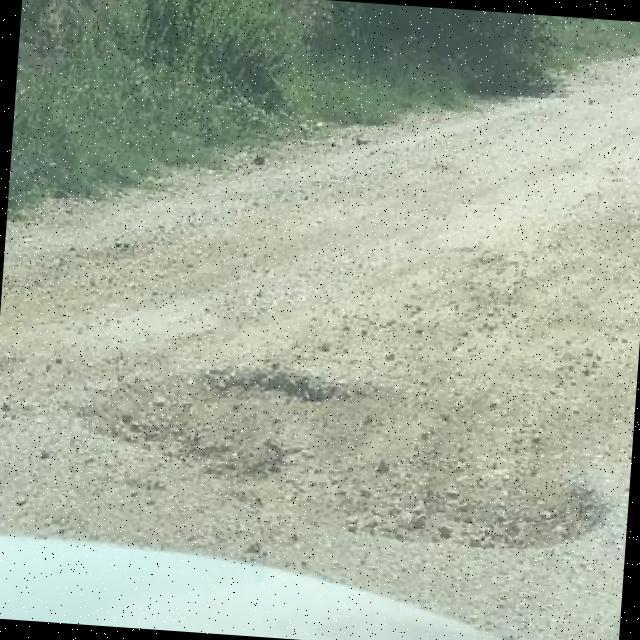Pothole: (77, 367, 596, 549)
